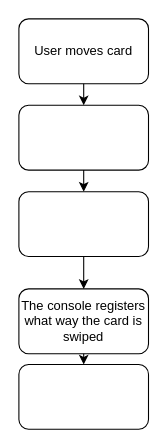
The diagram is 167 pixels wide and 448 high, and some of its shapes have lost their labels. The shapes that lost their labels are listed below. From the top down, each one's centre as x and y in pixels, then its label:
At (x=83, y=137): "Program detects the movement of the card".
At (x=83, y=223): "Card is swiped".
